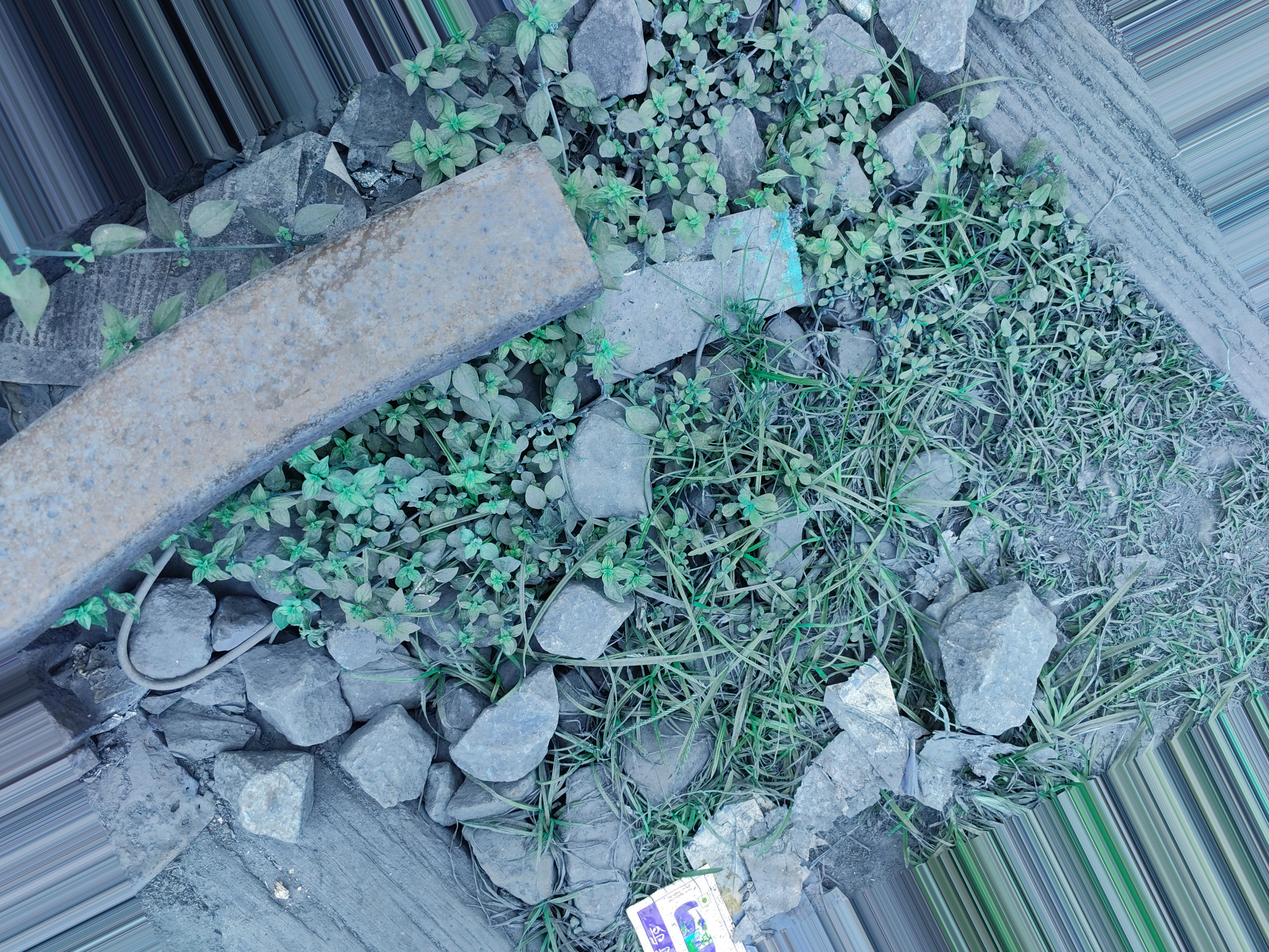tracks_fault: (519, 76, 1112, 329)
